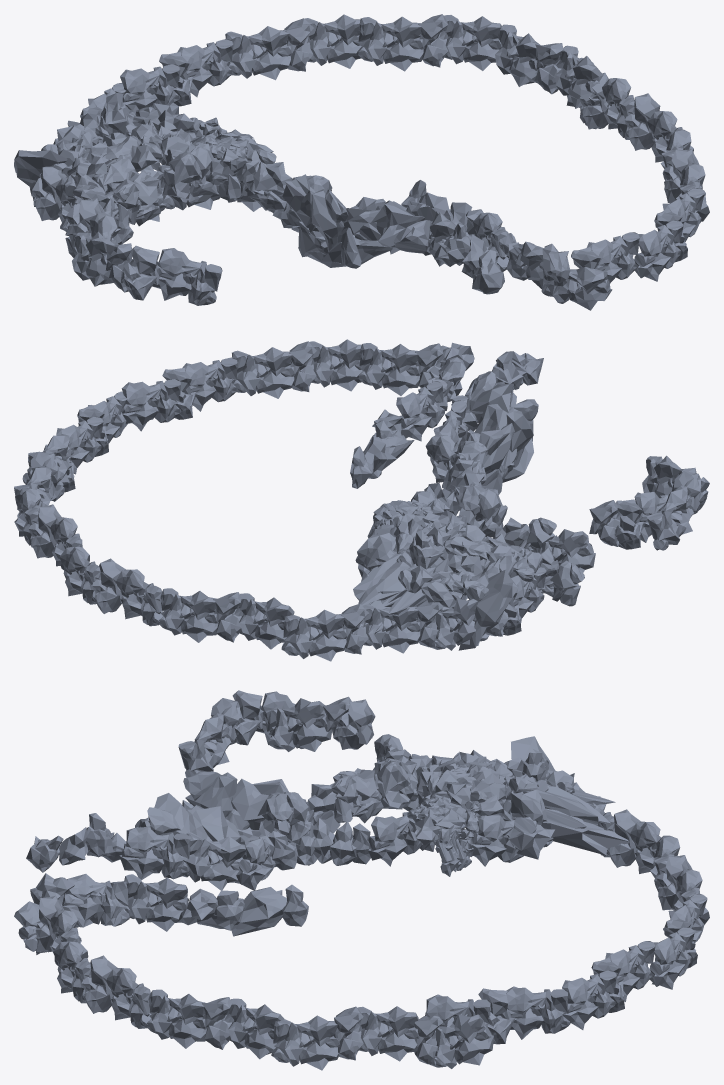
File: Cliffs.glb
The picture shows the model from 3 angles, top to bottom: view 1: azimuth 30°, elevation 25°; view 2: azimuth 150°, elevation 25°; view 3: azimuth 270°, elevation 25°; orthographic projection. The views are drawn at different scales.
Visible parts, largest first — view 1: cliff_group_01.058, cliff_group_01.006, cliff_group_01.029, cliff_group_01, cliff_group_01.028, cliff_group_01.007, cliff_group_01.030, cliff_group_01.027, cliff_group_01.026, cliff_group_01.013, cliff_group_01.039, cliff_group_01.025 (+55 smaller); view 2: cliff_group_01.006, cliff_group_01.024, cliff_group_01.058, cliff_group_01.044, cliff_group_01.041, cliff_group_01.040, cliff_group_01.025, cliff_group_01.038, cliff_group_01.023, cliff_group_01.026, cliff_group_01.039, cliff_group_01.015 (+51 smaller); view 3: cliff_group_01.006, cliff_group_01.044, cliff_group_01.008, cliff_group_01.058, cliff_group_01.036, cliff_group_01.012, cliff_group_01.002, cliff_group_01.015, cliff_group_01.037, cliff_group_01.035, cliff_group_01.032, cliff_group_01.009 (+52 smaller).
Boxes of the visible parts, left/top/right/bottom form: cliff_group_01.058: left=320, top=201, right=436, bottom=267; cliff_group_01.006: left=282, top=174, right=361, bottom=268; cliff_group_01.029: left=356, top=16, right=424, bottom=71; cliff_group_01: left=152, top=248, right=222, bottom=305; cliff_group_01.028: left=225, top=26, right=291, bottom=80; cliff_group_01.007: left=226, top=157, right=292, bottom=211; cliff_group_01.030: left=441, top=15, right=502, bottom=70; cliff_group_01.027: left=305, top=14, right=362, bottom=68; cliff_group_01.026: left=120, top=64, right=180, bottom=112; cliff_group_01.013: left=541, top=267, right=612, bottom=310; cliff_group_01.039: left=634, top=220, right=683, bottom=281; cliff_group_01.025: left=177, top=39, right=233, bottom=97; cliff_group_01.006: left=479, top=399, right=538, bottom=494; cliff_group_01.024: left=281, top=609, right=347, bottom=661; cliff_group_01.058: left=469, top=371, right=533, bottom=482; cliff_group_01.044: left=353, top=535, right=450, bottom=633; cliff_group_01.041: left=357, top=343, right=420, bottom=395; cliff_group_01.040: left=232, top=347, right=294, bottom=398; cliff_group_01.025: left=158, top=588, right=218, bottom=642; cliff_group_01.038: left=121, top=379, right=180, bottom=431; cliff_group_01.023: left=363, top=604, right=421, bottom=653; cliff_group_01.026: left=237, top=593, right=294, bottom=649; cliff_group_01.039: left=309, top=339, right=363, bottom=391; cliff_group_01.015: left=396, top=381, right=444, bottom=441; cliff_group_01.006: left=182, top=771, right=306, bottom=867; cliff_group_01.044: left=499, top=778, right=629, bottom=855; cliff_group_01.008: left=119, top=827, right=190, bottom=879; cliff_group_01.058: left=135, top=793, right=240, bottom=843; cliff_group_01.036: left=271, top=1015, right=339, bottom=1070; cliff_group_01.012: left=61, top=874, right=129, bottom=927; cliff_group_01.002: left=263, top=698, right=332, bottom=751; cliff_group_01.015: left=124, top=874, right=188, bottom=931; cliff_group_01.037: left=146, top=989, right=207, bottom=1048; cliff_group_01.035: left=357, top=1006, right=419, bottom=1061; cliff_group_01.032: left=506, top=986, right=570, bottom=1039; cliff_group_01.009: left=177, top=832, right=245, bottom=890.
Size of the model in its own units: 189 by 32.83 by 184.
